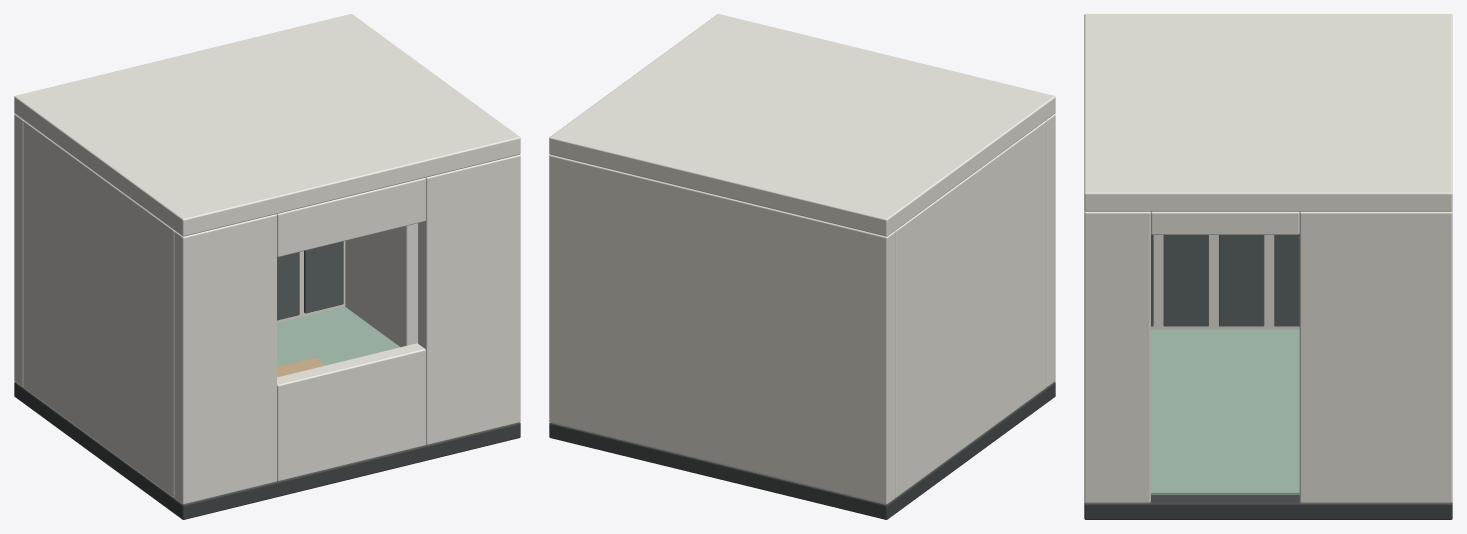
Rendered from hearing-aid-and-audiology-clinic-acoustic-test-booth-e05e06f2__31718.glb.
3 renders of one model, left to right at view 1: azimuth 30°, elevation 25°; view 2: azimuth 150°, elevation 25°; view 3: azimuth 270°, elevation 25°, orthographic. The views are drawn at different scales.
Visible parts, largest first — view 1: acoustic-test-booth; view 2: acoustic-test-booth; view 3: acoustic-test-booth.
Boxes of the visible parts, x1=… form: acoustic-test-booth: x1=14, y1=14, x2=520, y2=519; acoustic-test-booth: x1=549, y1=14, x2=1055, y2=519; acoustic-test-booth: x1=1084, y1=14, x2=1452, y2=519.
Bounding box in the file's own units: 3 × 2.55 × 2.6.
